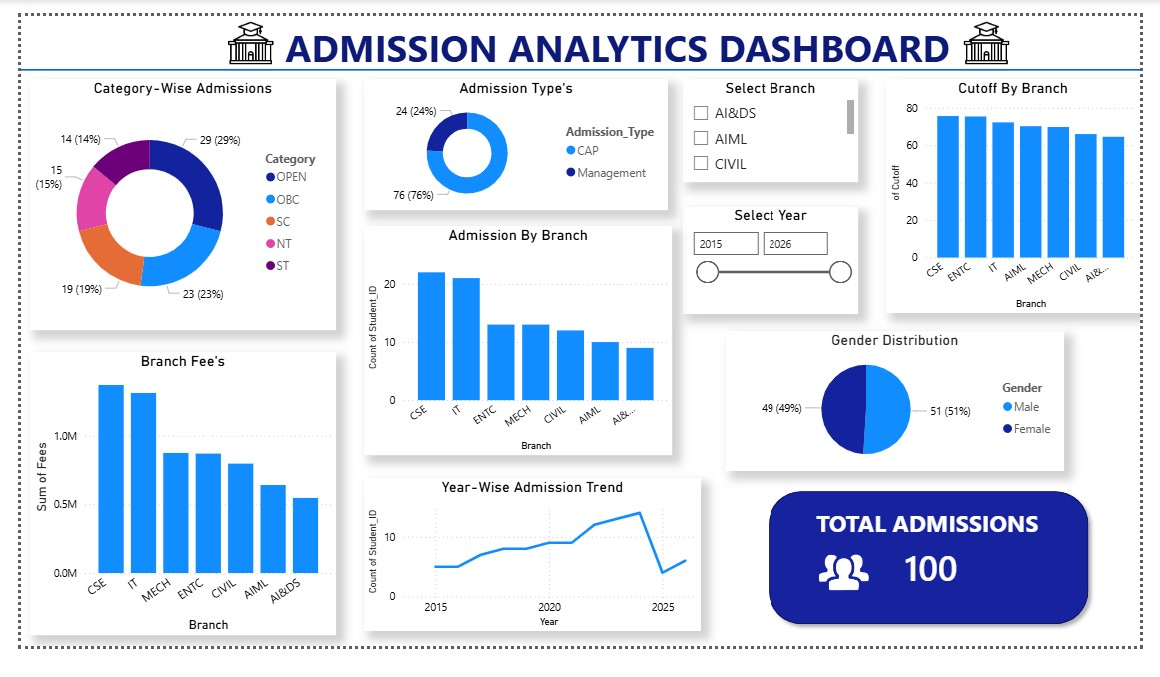

The dashboard page shown, as its layout file describes it:
{"tool":"powerbi","page":{"name":"Page 1","canvas":[1280,720],"ordinal":0},"visuals":[{"type":"clusteredColumnChart","title":"Admission By Branch","fields":{"Category":["Table1.Branch"],"Y":["CountNonNull(Table1.Student_ID)"]},"box":[392.5,240,352.5,262.5],"z":0},{"type":"pieChart","title":"Gender Distribution","fields":{"Category":["Table1.Gender"],"Y":["CountNonNull(Table1.Student_ID)"]},"box":[805,360,387.5,160],"z":1000},{"type":"donutChart","title":"Category-Wise Admissions","fields":{"Category":["Table1.Category"],"Y":["CountNonNull(Table1.Student_ID)"]},"box":[10,72.5,350,287.5],"z":2000},{"type":"lineChart","title":"Year-Wise Admission Trend","fields":{"Category":["Table1.Year"],"Y":["CountNonNull(Table1.Student_ID)"]},"box":[392.5,527.5,385,175],"z":3000},{"type":"lineClusteredColumnComboChart","title":"Branch Fee''s","fields":{"Category":["Table1.Branch"],"Y":["Sum(Table1.Fees)"]},"box":[10,384,350,324],"z":4000},{"type":"textbox","box":[246.7,0,1033.3,61.7],"z":5000},{"type":"slicer","title":"Select Year","fields":{"Values":["Table1.Year"]},"box":[755,217.5,202.5,122.5],"z":6000},{"type":"slicer","title":"Select Branch","fields":{"Values":["Table1.Branch"]},"box":[756,72,202,118],"z":7000},{"type":"shape","box":[846,534,384,170],"z":8000},{"type":"textbox","box":[850,556,374,104],"z":9000},{"type":"image","box":[884,608,114,60],"z":10000},{"type":"shape","box":[0,52,1280,19],"z":11000},{"type":"image","box":[221.7,3.9,81,54],"z":12000},{"type":"shape","box":[1104.6,0,175.4,57.8],"z":13000},{"type":"image","box":[1064.1,3.9,81,54],"z":14000},{"type":"clusteredColumnChart","title":"Cutoff By Branch","fields":{"Category":["Table1.Branch"],"Y":["Avg(Table1.Cutoff)"]},"box":[990,72.5,290,267.5],"z":15000},{"type":"cardVisual","fields":{"Data":["CountNonNull(Table1.Student_ID)"]},"box":[958,588,166,80],"z":16000},{"type":"donutChart","title":"Admission Type''s","fields":{"Category":["Table1.Admission_Type"],"Y":["CountNonNull(Table1.Student_ID)"]},"box":[392.5,72.5,347.5,150],"z":17000}]}

Visuals, with their boxes on the page's 1280x720 design canvas (x1, y1, x2, y2). These are canvas units, not pixel positions in the 1160x677 screenshot, which may show the page scaled, cropped or inside an application window:
"Admission By Branch" clusteredColumnChart: crop(392, 240, 745, 502)
"Gender Distribution" pieChart: crop(805, 360, 1192, 520)
"Category-Wise Admissions" donutChart: crop(10, 72, 360, 360)
"Year-Wise Admission Trend" lineChart: crop(392, 528, 778, 702)
"Branch Fee''s" lineClusteredColumnComboChart: crop(10, 384, 360, 708)
textbox: crop(247, 0, 1280, 62)
"Select Year" slicer: crop(755, 218, 958, 340)
"Select Branch" slicer: crop(756, 72, 958, 190)
shape: crop(846, 534, 1230, 704)
textbox: crop(850, 556, 1224, 660)
image: crop(884, 608, 998, 668)
shape: crop(0, 52, 1280, 71)
image: crop(222, 4, 303, 58)
shape: crop(1105, 0, 1280, 58)
image: crop(1064, 4, 1145, 58)
"Cutoff By Branch" clusteredColumnChart: crop(990, 72, 1280, 340)
cardVisual - CountNonNull(Table1.Student_ID): crop(958, 588, 1124, 668)
"Admission Type''s" donutChart: crop(392, 72, 740, 222)
